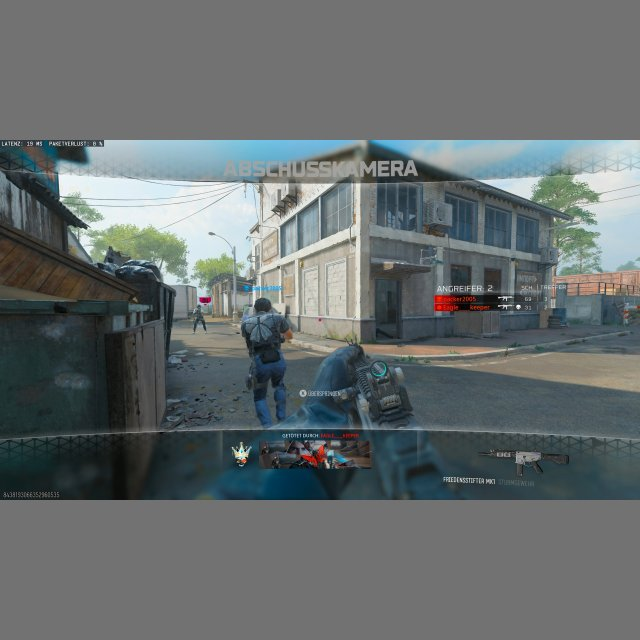head: (254, 297, 271, 313)
player: (241, 297, 294, 426), (191, 305, 206, 334), (103, 246, 117, 265)
